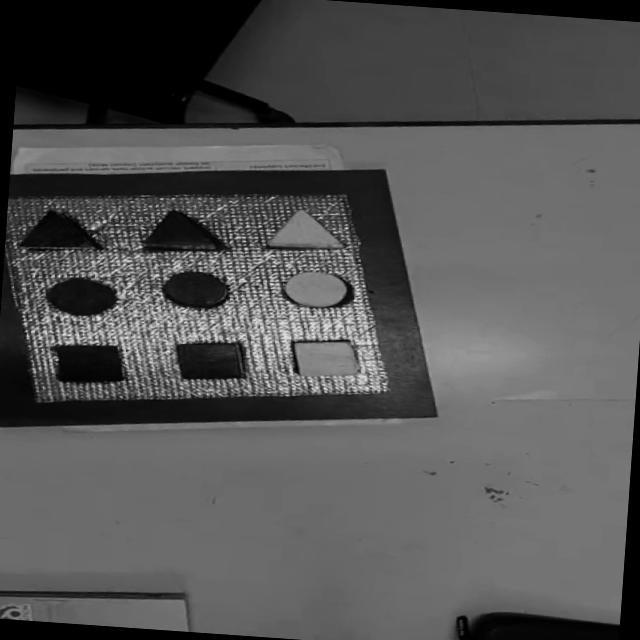btriangle: (18, 207, 104, 254)
mtcircle: (45, 274, 120, 318)
mtcube: (50, 340, 127, 386)
rcircle: (162, 268, 230, 310)
rcube: (172, 338, 246, 383)
rtriangle: (141, 207, 223, 253)
wb: (6, 189, 401, 405)
ycircle: (281, 267, 352, 310)
ycube: (291, 335, 363, 380)
ytriangle: (266, 206, 348, 254)
